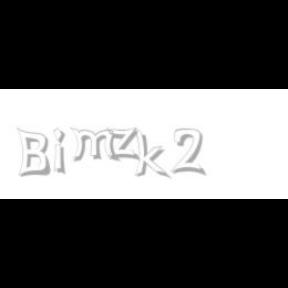2: (170, 128, 204, 176)
B: (16, 128, 50, 178)
i: (53, 128, 69, 176)
k: (133, 128, 171, 180)
m: (69, 128, 121, 162)
z: (106, 128, 142, 160)
